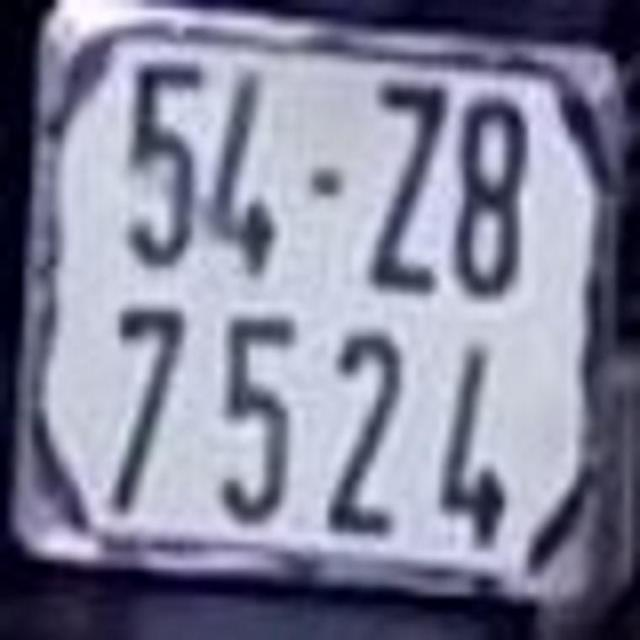2: (322, 312, 401, 549)
4: (206, 54, 276, 276), (441, 330, 506, 560)
5: (218, 300, 297, 527), (128, 54, 198, 268)
7: (110, 296, 189, 515)
8: (451, 76, 526, 303)
Z: (365, 71, 446, 300)
